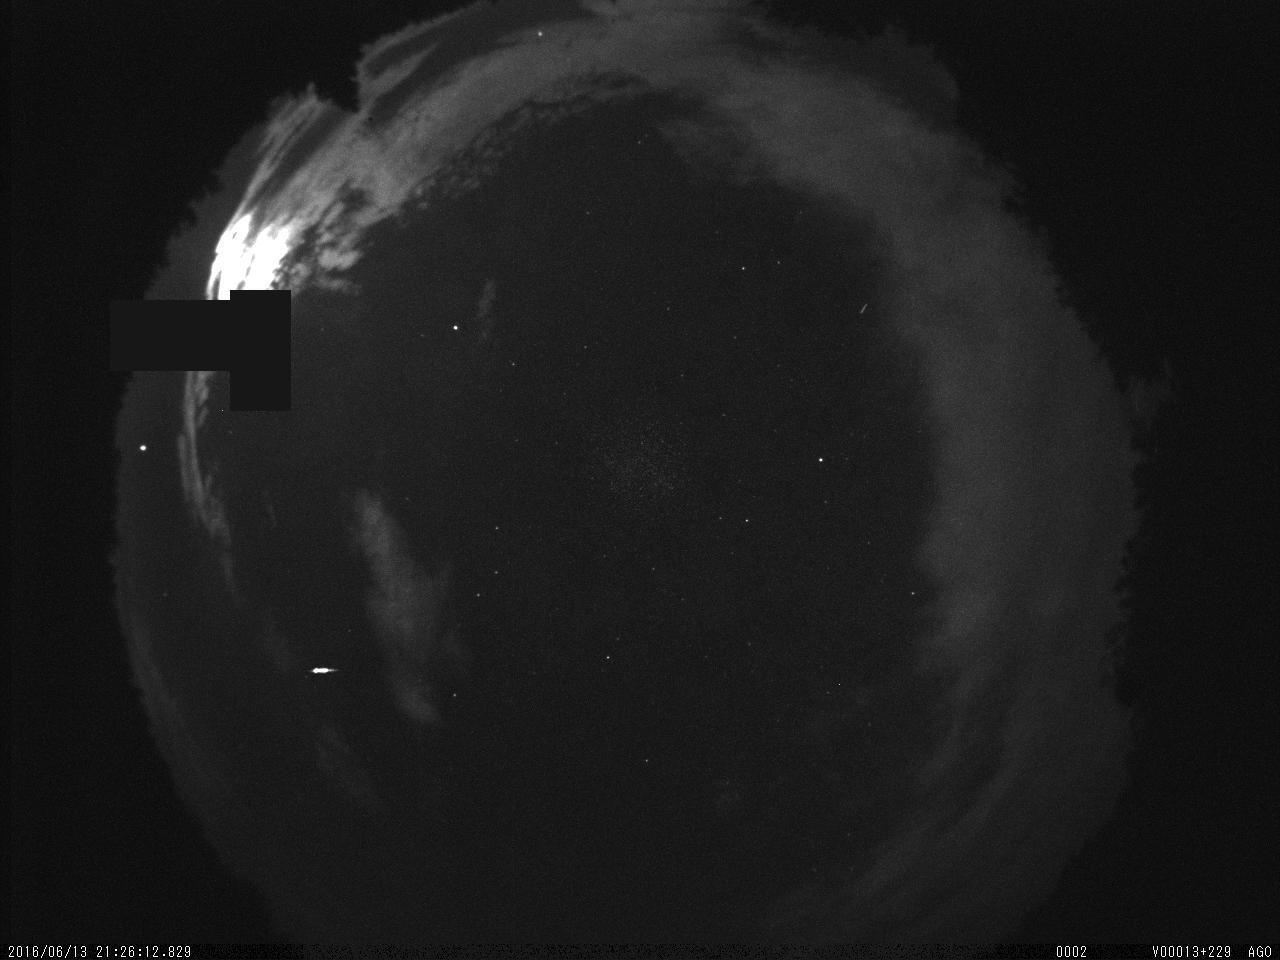meteor: (301, 658, 347, 681)
